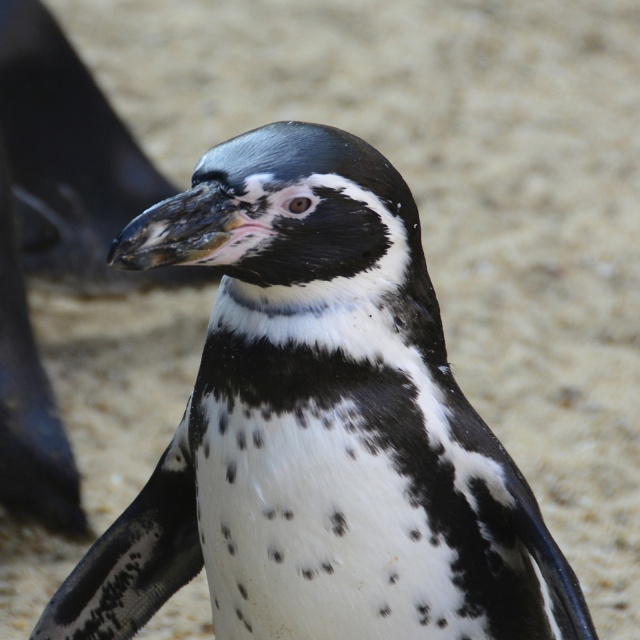Penguin: (29, 115, 640, 640)
